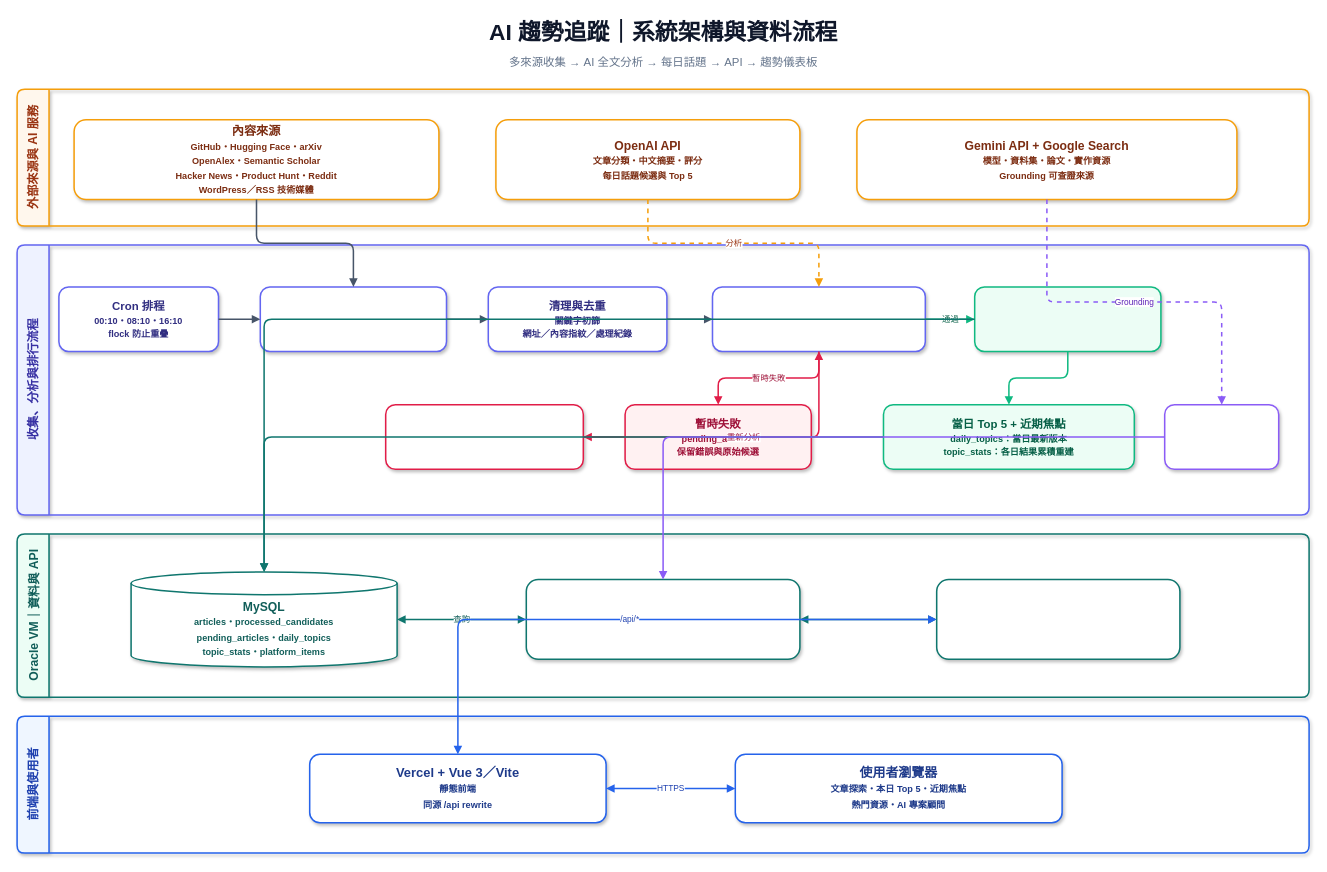
Image size: 1327x872. Some labels were removed from this diagram. The centre of each missing label's shape, as x and y in pixels:
FastAPI 文章／日期／統計／話題 API GitHub・HF 排行／專案顧問: (663,620)
main.py + Collectors API 優先 空資料保留 RSS fallback: (353,320)
Nginx + systemd 公開 /api 入口 Uvicorn 127.0.0.1:8000: (1059,620)
retry_pending_articles.py 服務／額度恢復後重試 不重複新增已完成文章: (485,438)
合格文章 articles 繁中摘要與分析結果: (1068,320)
專案顧問 Gemini Grounded Search 6–10 個可查證資源: (1222,438)
正文擷取 + OpenAI 分析 標題・摘要・正文 相關度・重要度・趨勢分數: (819,320)
